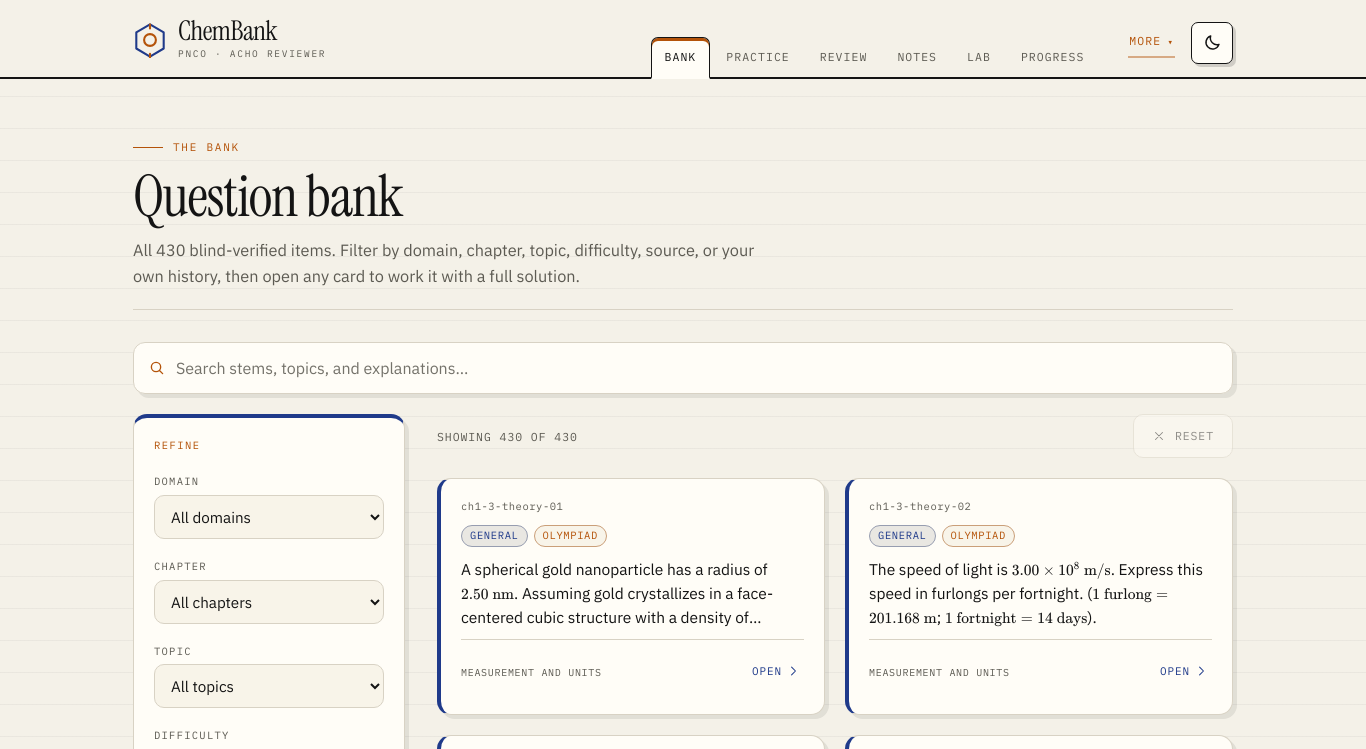
Test: bank search narrows the cards and persists in the URL
The image size is (1366, 749).
In the search field named "search questions": (697, 368) [176,344,1218,392], type "nanoparticle"
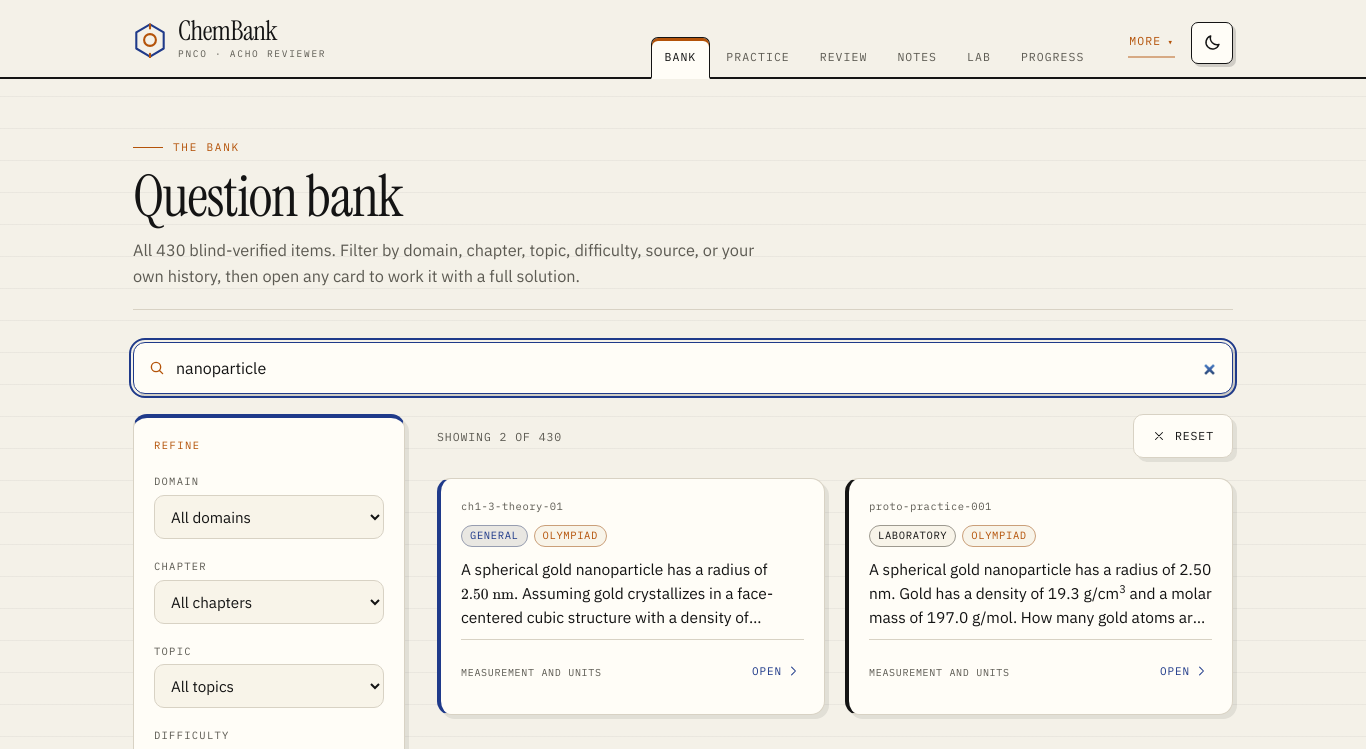
Now the number of links "Open " is 2, box [752,664,800,678]; [1160,664,1208,678]
